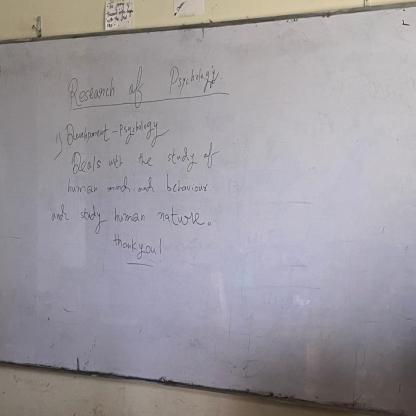Handwritten text: (63, 59, 231, 112), (67, 136, 219, 181), (49, 195, 209, 232), (64, 175, 211, 204), (61, 110, 169, 148), (112, 232, 158, 263)
Whiteboard: (0, 5, 416, 416)
